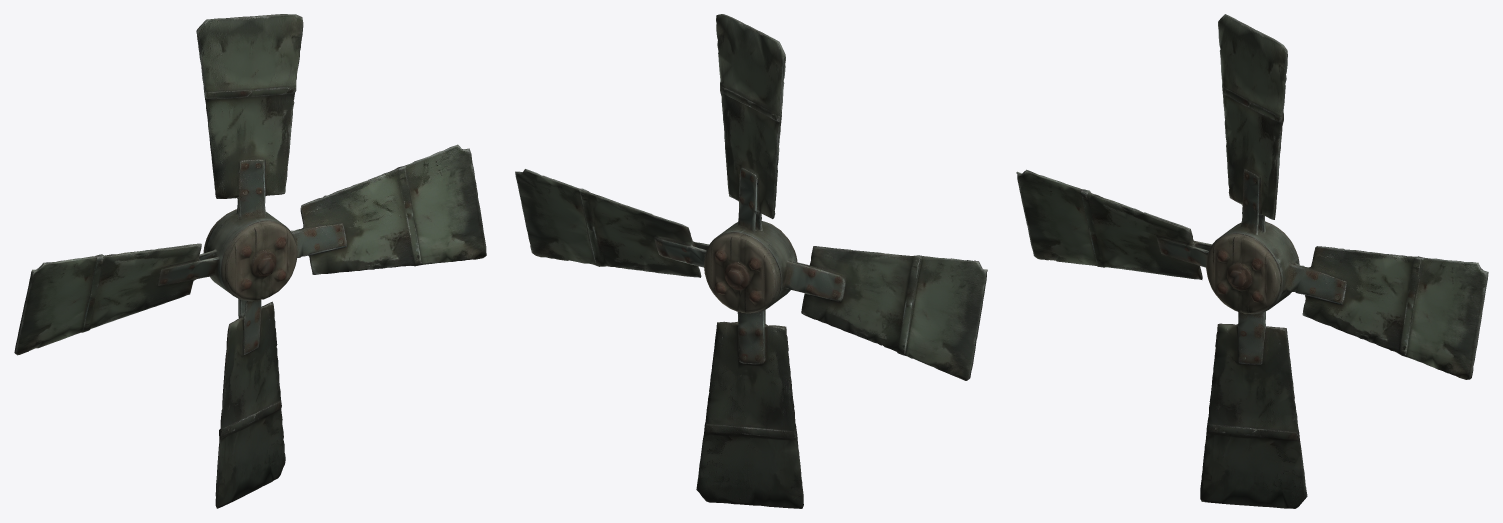
The model's file is windmill_blades.glb.
3 renders of one model, left to right at view 1: azimuth 30°, elevation 25°; view 2: azimuth 150°, elevation 25°; view 3: azimuth 330°, elevation 25°, orthographic.
Visible parts, largest first — view 1: Mesh_0; view 2: Mesh_0; view 3: Mesh_0.
Boxes of the visible parts, box(x1,y1,x2,y2) form: Mesh_0: box(14, 14, 486, 508); Mesh_0: box(515, 14, 987, 508); Mesh_0: box(1016, 14, 1488, 508).
Size of the model in its own units: 1.91 by 1.91 by 0.2487.
1 material, 1 textured.
